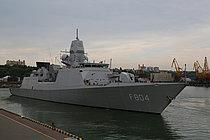MIL_Ship: (9, 33, 188, 116)
